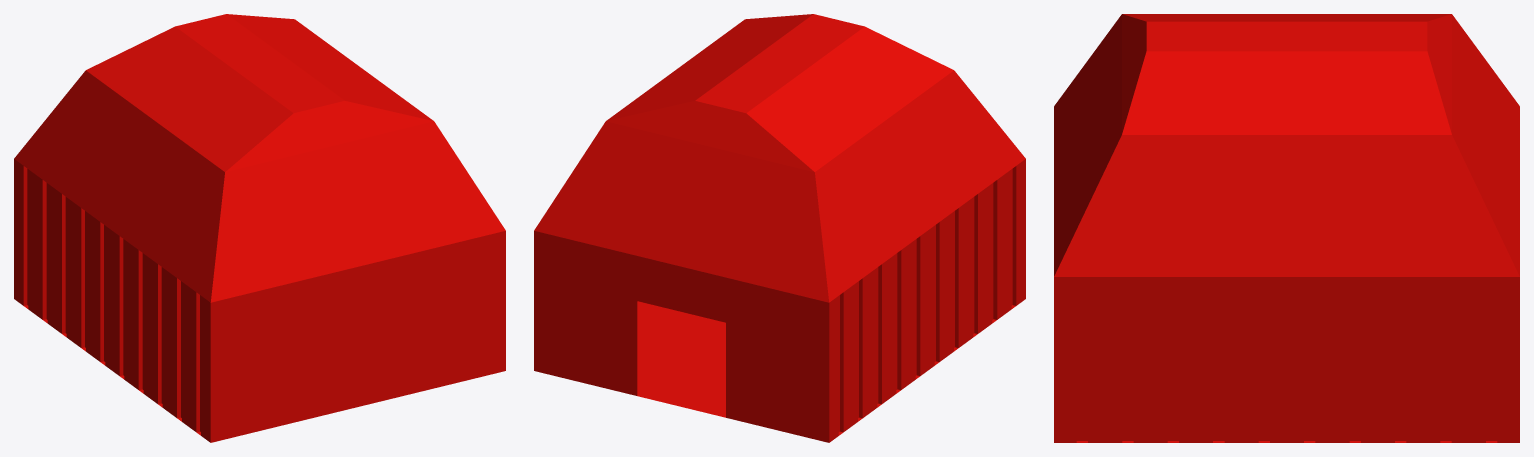
File: BarnFixed.fbx
3 views of the same model, side by side, from view 1: azimuth 30°, elevation 25°; view 2: azimuth 150°, elevation 25°; view 3: azimuth 270°, elevation 25° (orthographic). The views are drawn at different scales.
Visible parts, largest first — view 1: Cube.013; view 2: Cube.013; view 3: Cube.013.
Boxes of the visible parts, x1,y1,x2,y2 form: Cube.013: (14,14,505,442); Cube.013: (534,14,1025,442); Cube.013: (1054,14,1519,442).
Size of the model in its own units: 130 by 114 by 150.
